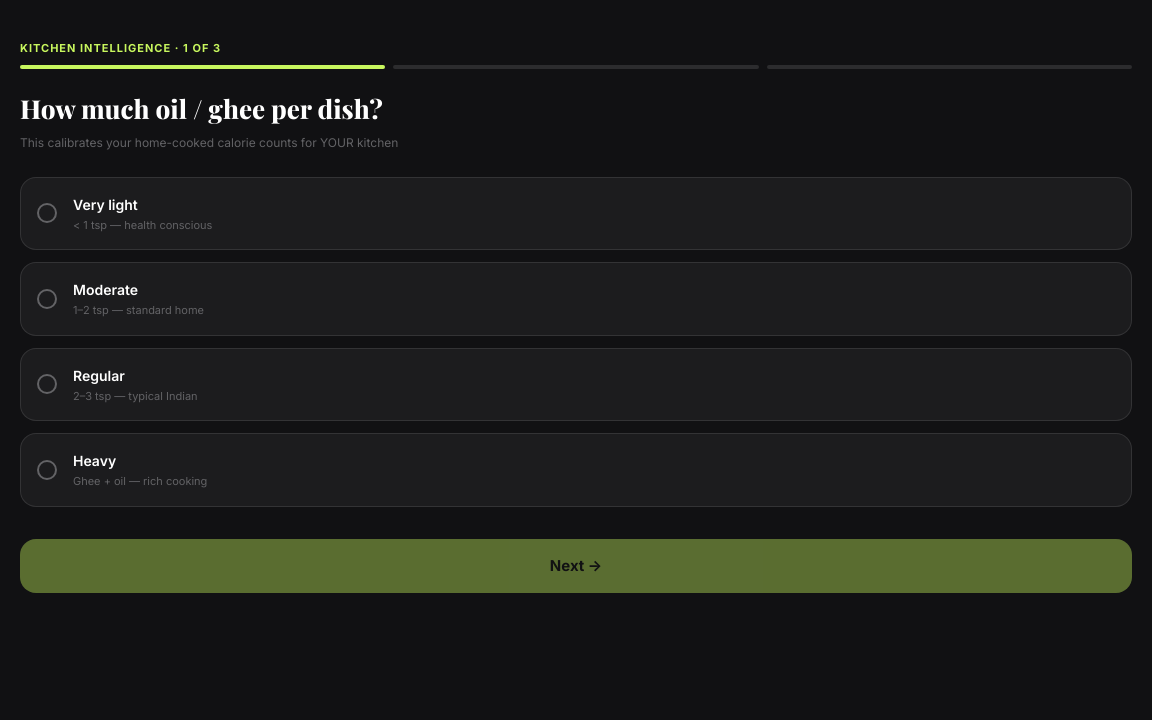
Test case: OnboardingPage › clicking Next on Q2 advances to question 3
Click the text "Moderate": [106, 290] box [73,281,138,298]
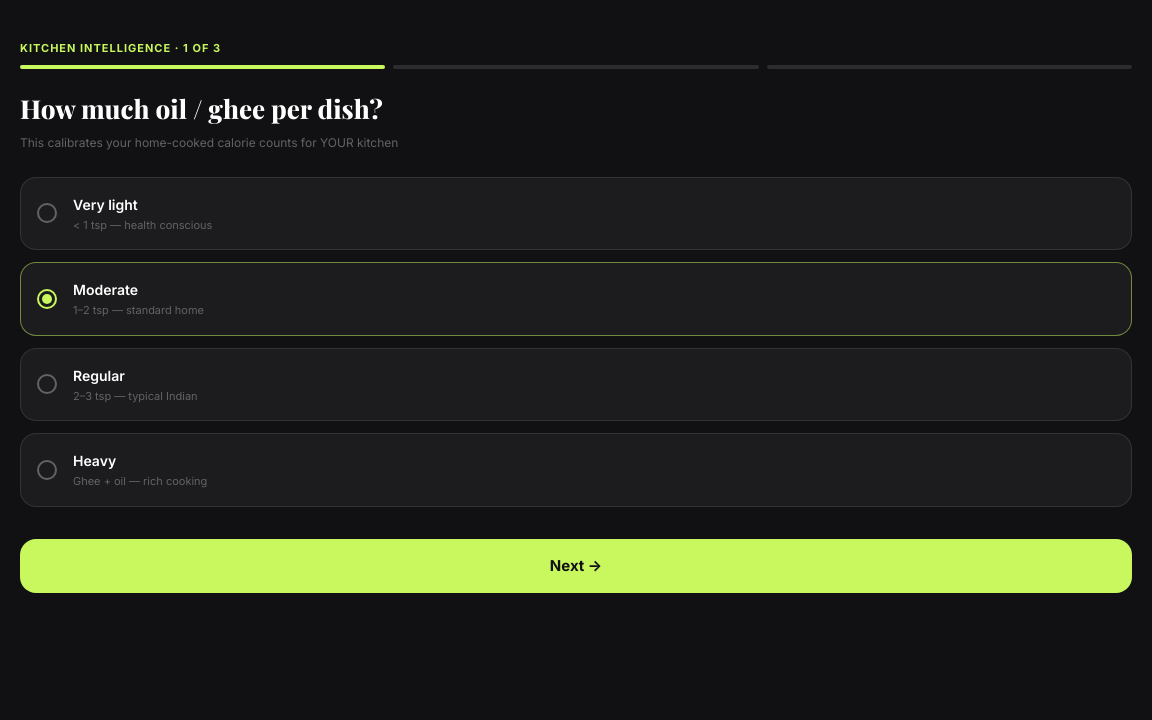
Click the button "Next →": [576, 566] box [20,538,1132,593]
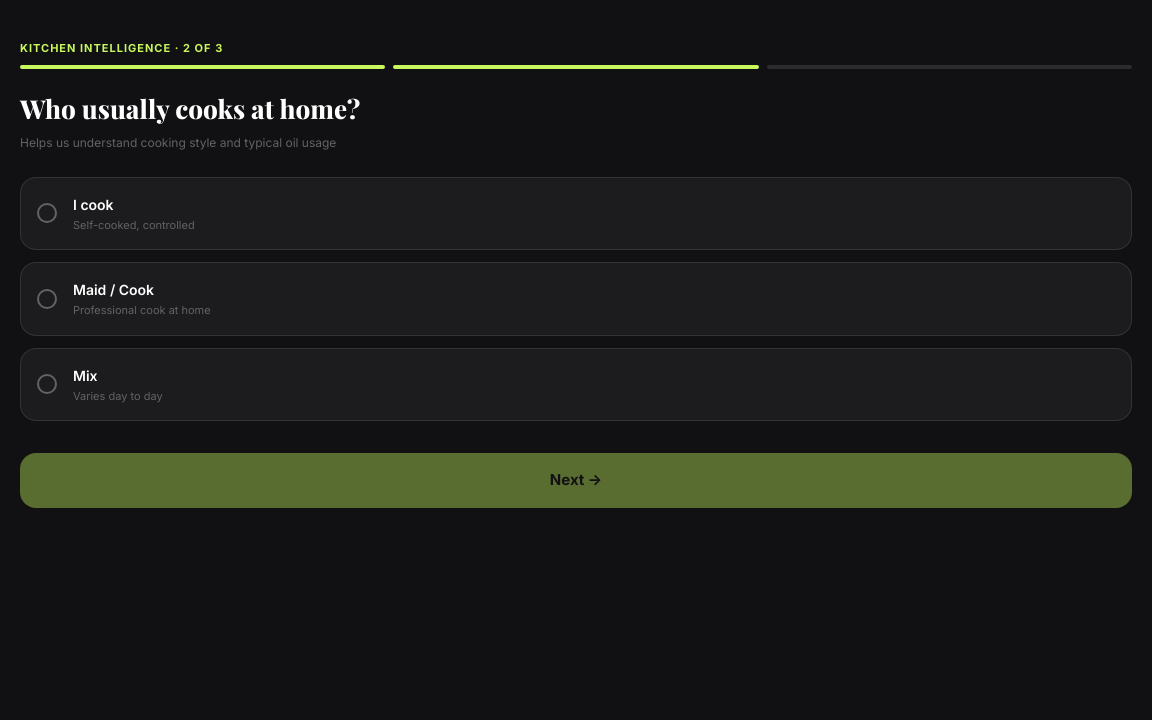
Click the text "I cook": [93, 204] box [73,196,114,212]
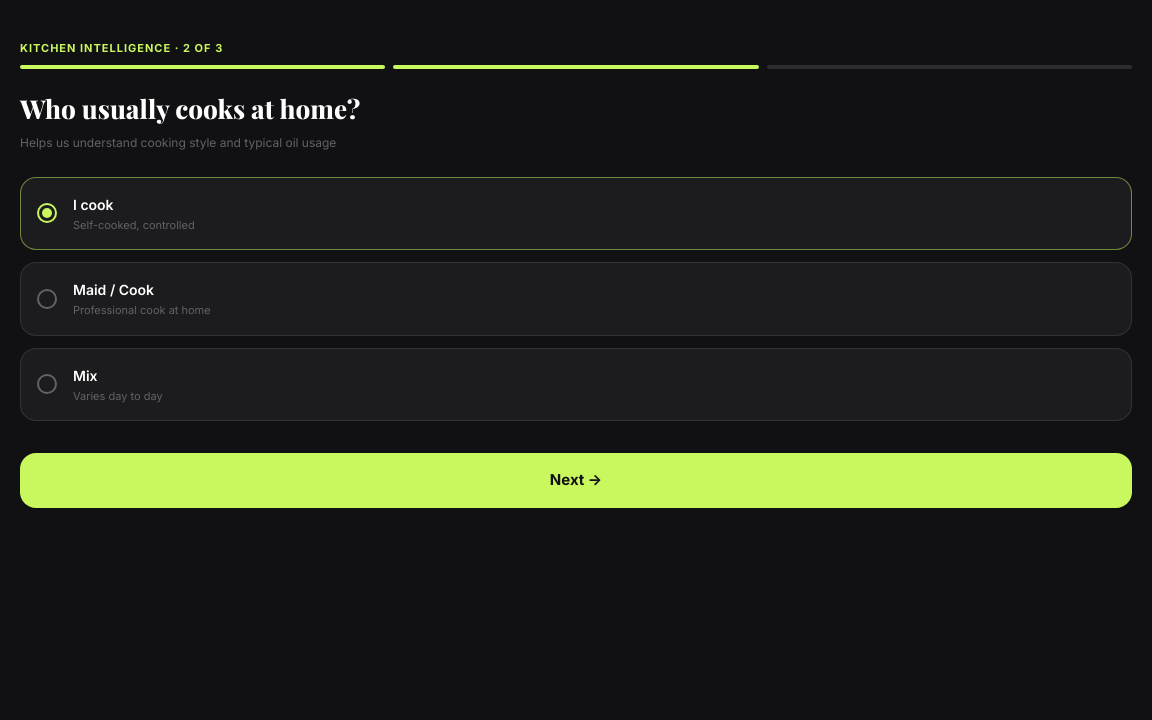
Click the button "Next →": [576, 480] box [20,453,1132,508]
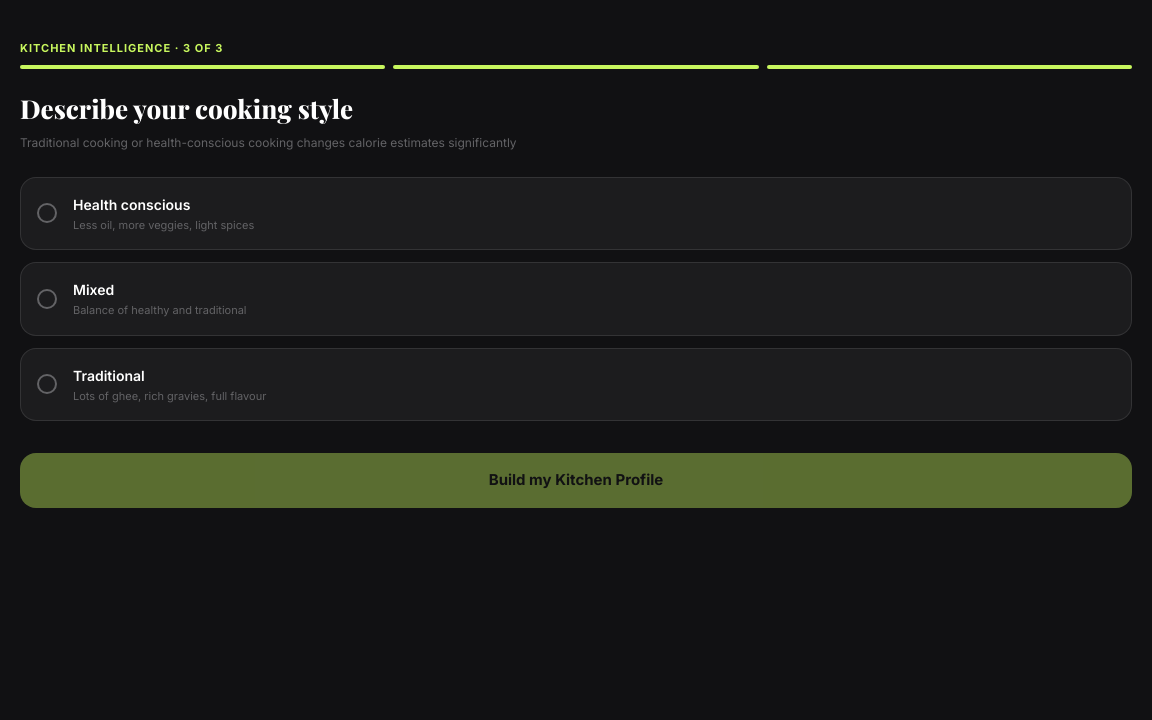
Check: the heading "Describe your cooking style" is shown, box [20,90,353,126]
Check: the text "Kitchen Intelligence · 3 of 3" is shown, box [20,41,224,55]
